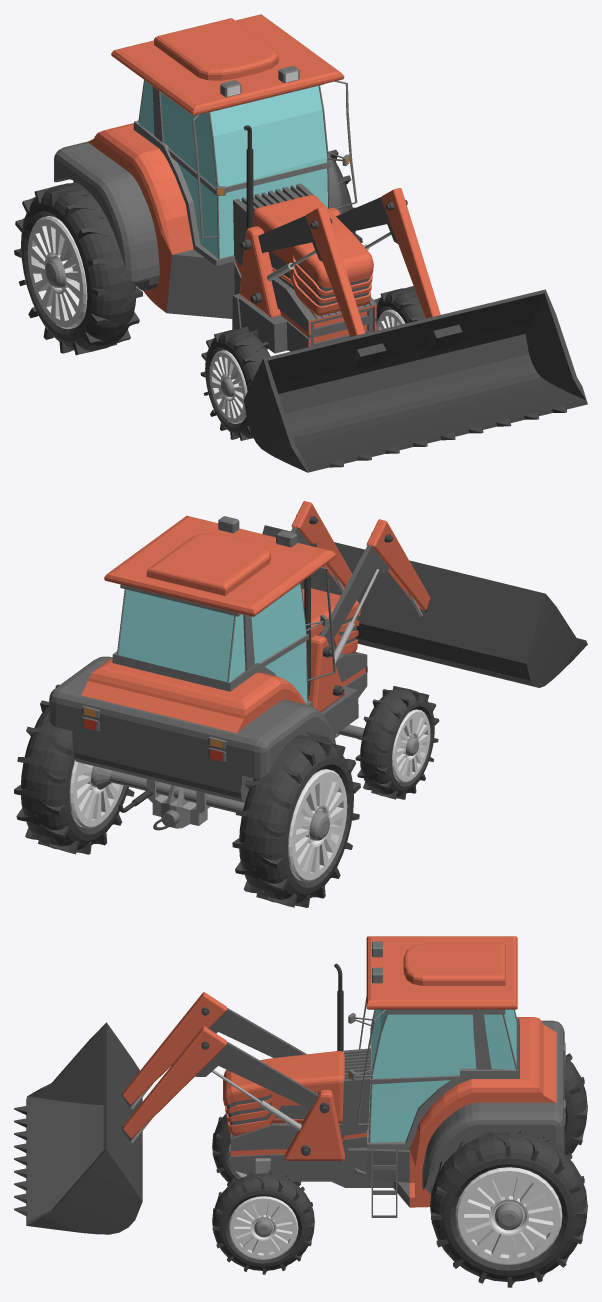
File: tractor.fbx
3 views of the same model, one above another, from view 1: azimuth 30°, elevation 25°; view 2: azimuth 150°, elevation 25°; view 3: azimuth 270°, elevation 25° (orthographic). The views are drawn at different scales.
Parts seen in each view (by area): view 1: tractor01, tractorbucket04, tractor01backleftwhell, tractorbucket02, tractor01frontleftwhell, tractorbucket01, tractor01frontrightwhell; view 2: tractor01, tractorbucket04, tractor01backleftwhell, tractor01backrightwhell, tractor01frontleftwhell, tractorbucket02, tractorbucket01; view 3: tractor01, tractorbucket04, tractor01backrightwhell, tractorbucket02, tractor01frontrightwhell, tractorbucket01, tractor01backleftwhell, tractor01frontleftwhell.
Boxes of the visible parts, bbox=[...] form: tractor01: bbox=[54, 14, 377, 353]; tractorbucket04: bbox=[244, 289, 587, 472]; tractor01backleftwhell: bbox=[14, 182, 142, 355]; tractorbucket02: bbox=[258, 188, 449, 369]; tractor01frontleftwhell: bbox=[200, 326, 270, 440]; tractorbucket01: bbox=[239, 207, 340, 317]; tractor01frontrightwhell: bbox=[373, 286, 425, 330]; tractor01: bbox=[49, 515, 367, 830]; tractorbucket04: bbox=[262, 525, 587, 687]; tractor01backleftwhell: bbox=[232, 735, 360, 907]; tractor01backrightwhell: bbox=[14, 684, 134, 854]; tractor01frontleftwhell: bbox=[355, 686, 439, 799]; tractorbucket02: bbox=[290, 501, 430, 663]; tractorbucket01: bbox=[308, 635, 344, 711]; tractor01: bbox=[223, 936, 565, 1217]; tractorbucket04: bbox=[14, 1022, 142, 1234]; tractor01backrightwhell: bbox=[430, 1130, 587, 1287]; tractorbucket02: bbox=[122, 992, 318, 1143]; tractor01frontrightwhell: bbox=[212, 1169, 314, 1274]; tractorbucket01: bbox=[284, 1089, 344, 1160]; tractor01backleftwhell: bbox=[564, 1053, 587, 1154]; tractor01frontleftwhell: bbox=[212, 1113, 301, 1186].
Bounding box in the file's own units: 114 × 112 × 214.
